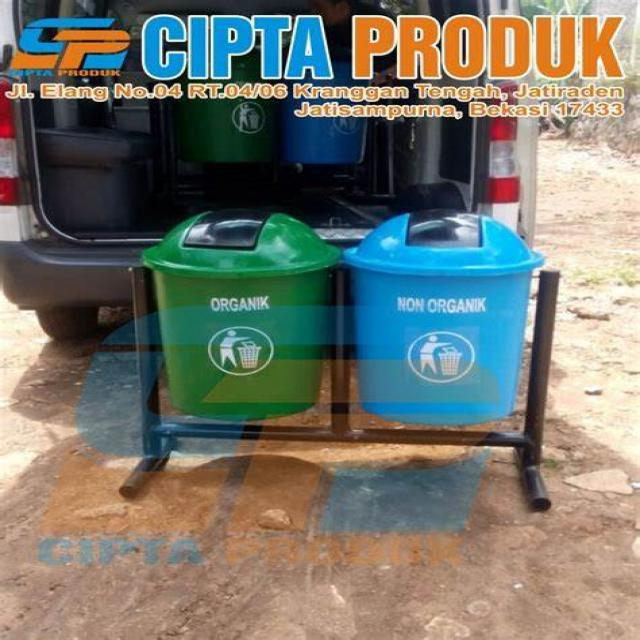garbage container: (345, 206, 617, 457), (133, 194, 341, 439)
